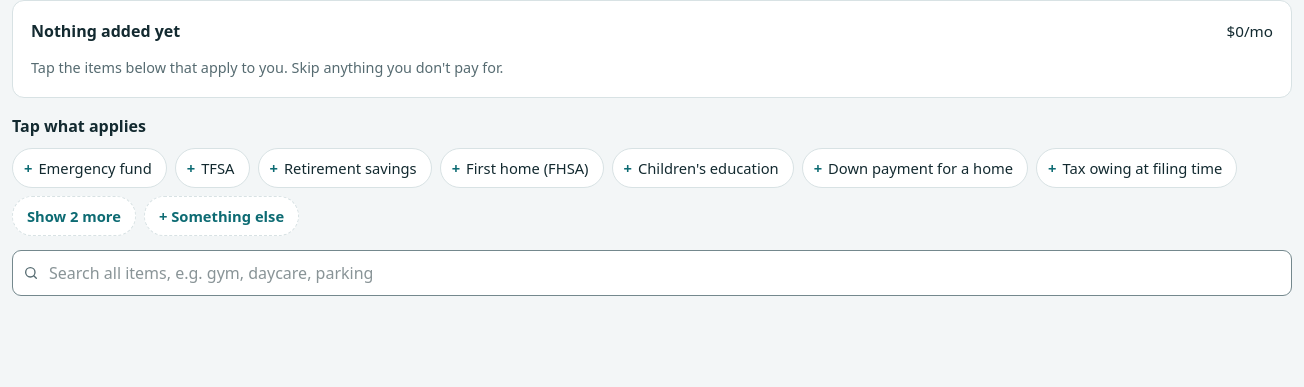
Test: BucketStep › toggles an item's tip
The width and height of the screenshot is (1304, 387).
Click the button "+ Emergency fund" at (89, 168), box [12,148,167,188]
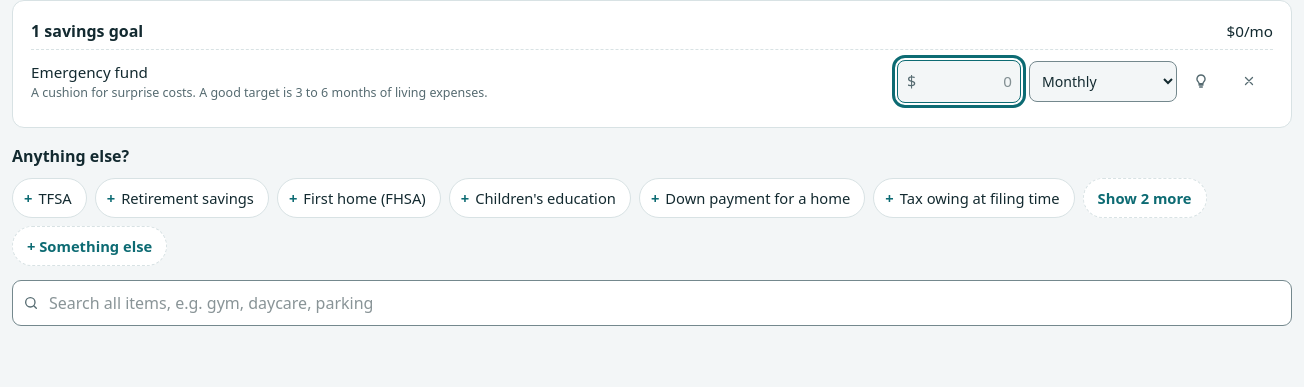
Expected: the text "small automatic transfer" is not shown
Click the button named "Tip for Emergency fund" at (1201, 81), box [1185,65,1217,97]
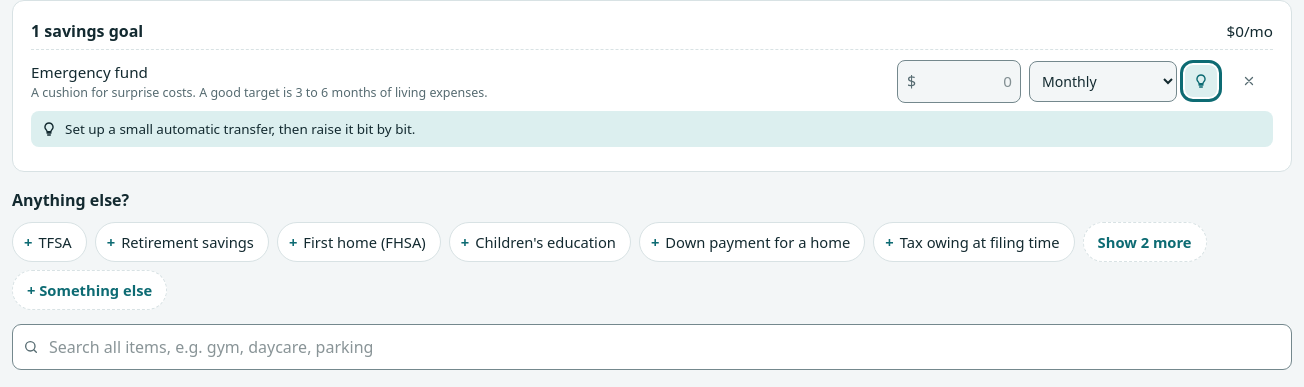
Expected: the button named "Tip for Emergency fund" is expanded, [1185,65,1217,97]
Expected: the text "Set up a small automatic transfer, then raise it bit by bit." is shown, [65,119,415,139]
